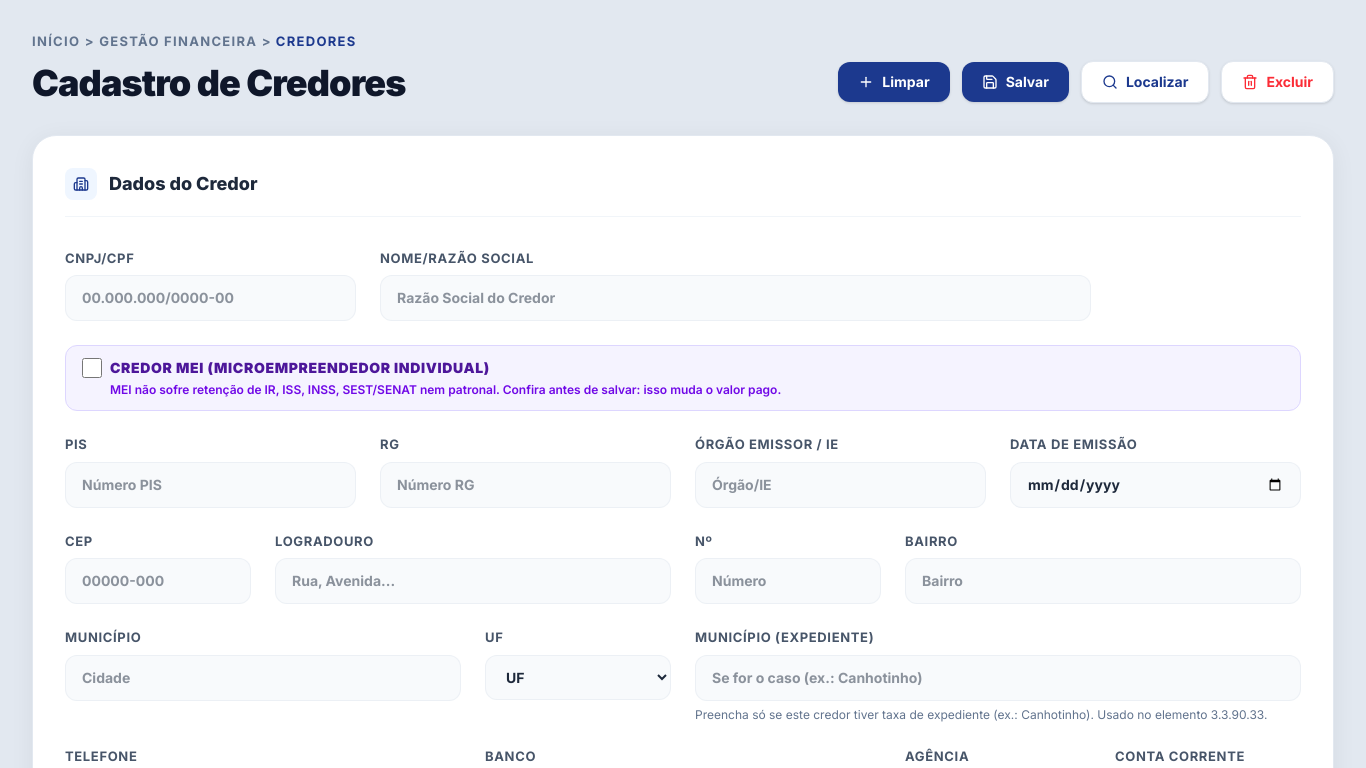
Cadastro de credores — MEI (T26) › aviso quando marca MEI com CPF (não bloqueia)
The image size is (1366, 768).
Type "12345678909" into the field labelled "CNPJ/CPF" at x=210, y=298, box [65,275,356,321]
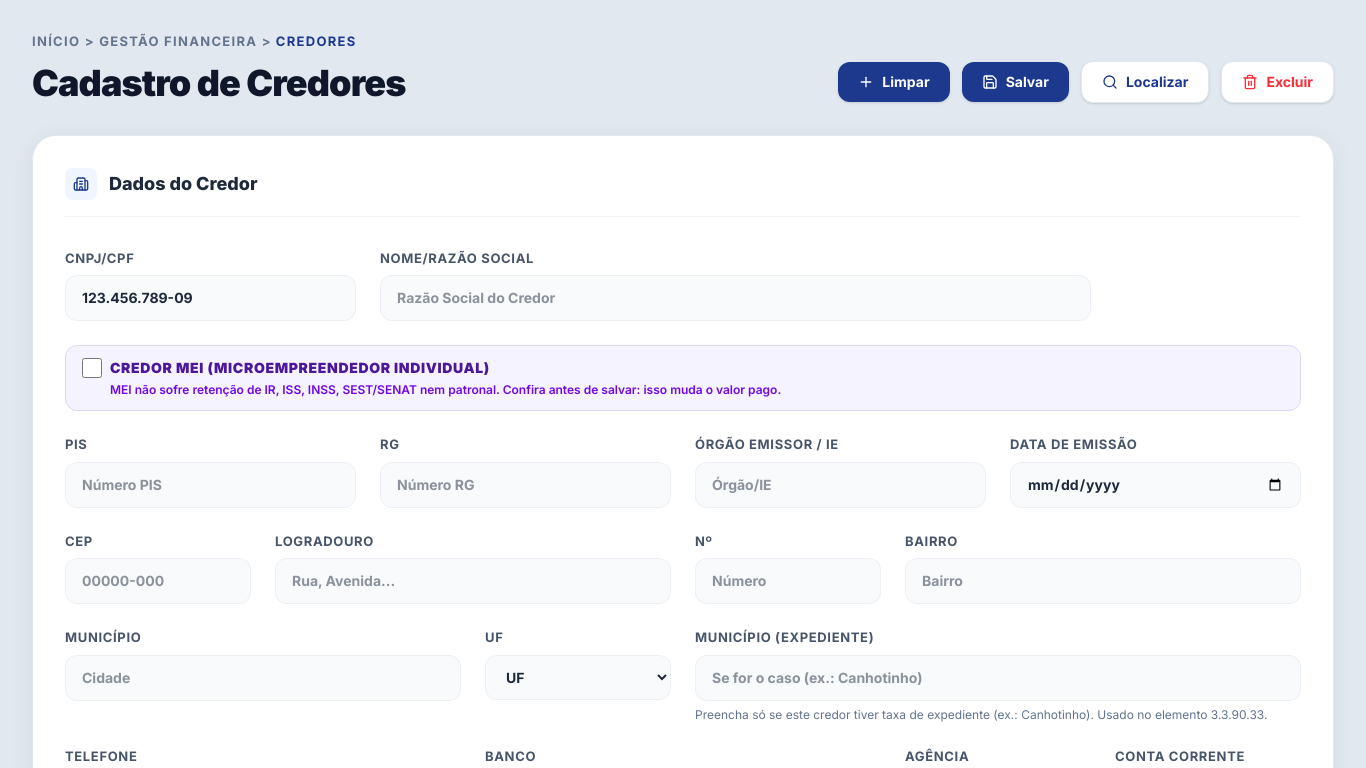
Expected: the text "MEI tem CNPJ" is not shown
Click the checkbox labelled "Credor MEI (Microempreendedor Individual)" at x=92, y=368, box [82,358,102,378]
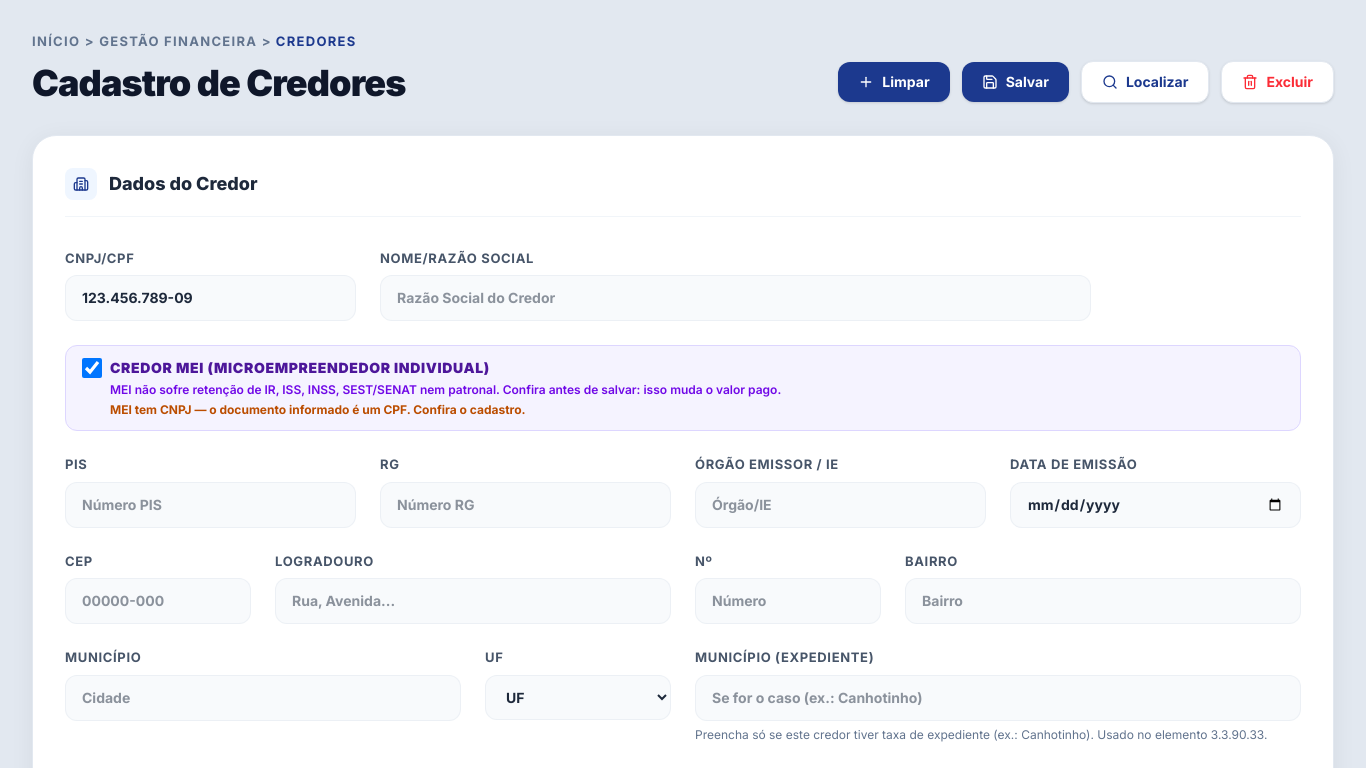
Now the message shows "MEI tem CNPJ", box [110,402,526,417]
Replace the text in the field labelled "CNPJ/CPF" with "11222333000181" at x=210, y=298, box [65,275,356,321]
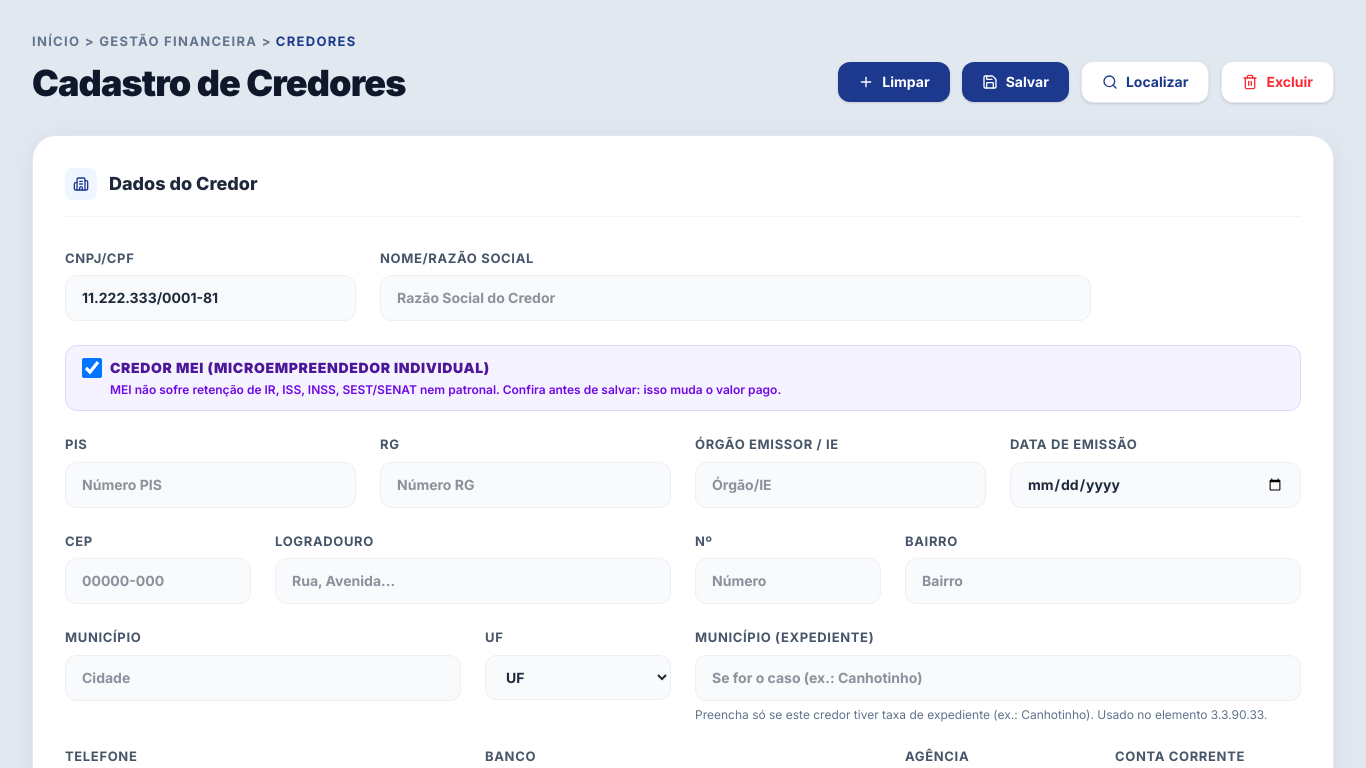
Now the text "MEI tem CNPJ" is gone
